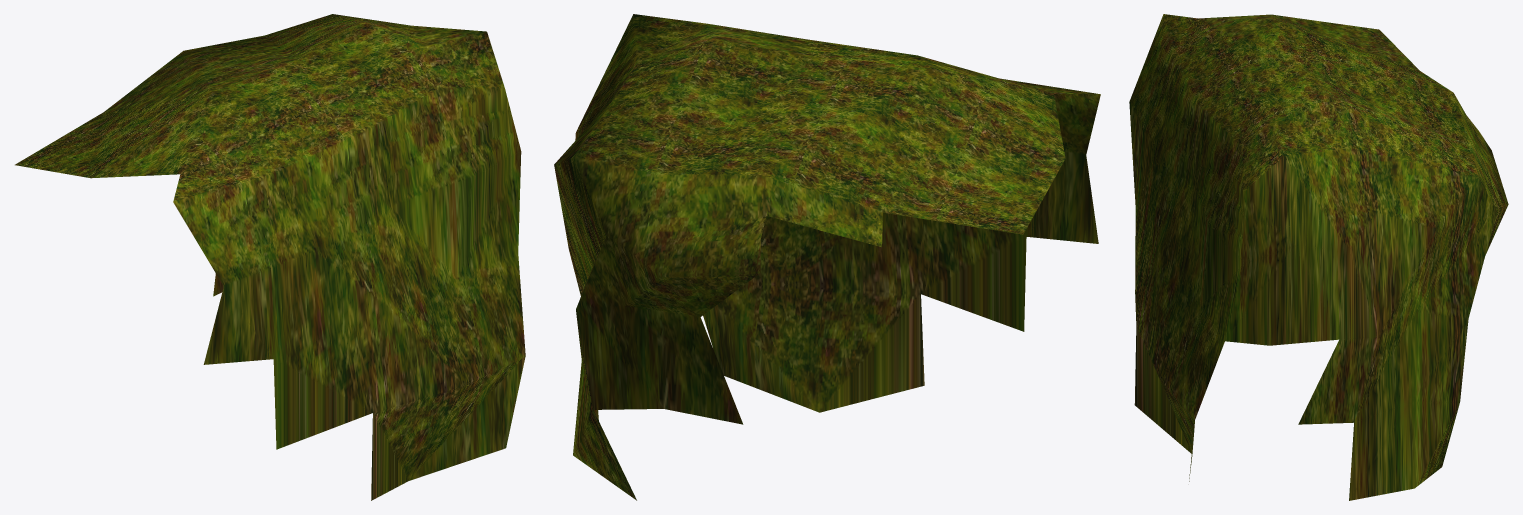
File: TROLLHOLE02_BOX327.fbx
3 views of the same model, side by side, from view 1: azimuth 30°, elevation 25°; view 2: azimuth 150°, elevation 25°; view 3: azimuth 270°, elevation 25° (orthographic). The views are drawn at different scales.
Parts seen in each view (by area): view 1: TROLLHOLE02_BOX327; view 2: TROLLHOLE02_BOX327; view 3: TROLLHOLE02_BOX327.
Boxes of the visible parts, x1=… form: TROLLHOLE02_BOX327: x1=15, y1=14, x2=525, y2=500; TROLLHOLE02_BOX327: x1=554, y1=14, x2=1100, y2=500; TROLLHOLE02_BOX327: x1=1129, y1=14, x2=1508, y2=500.
Size of the model in its own units: 98125 by 83881 by 77567.
Materials: 1 (1 with a texture image).
